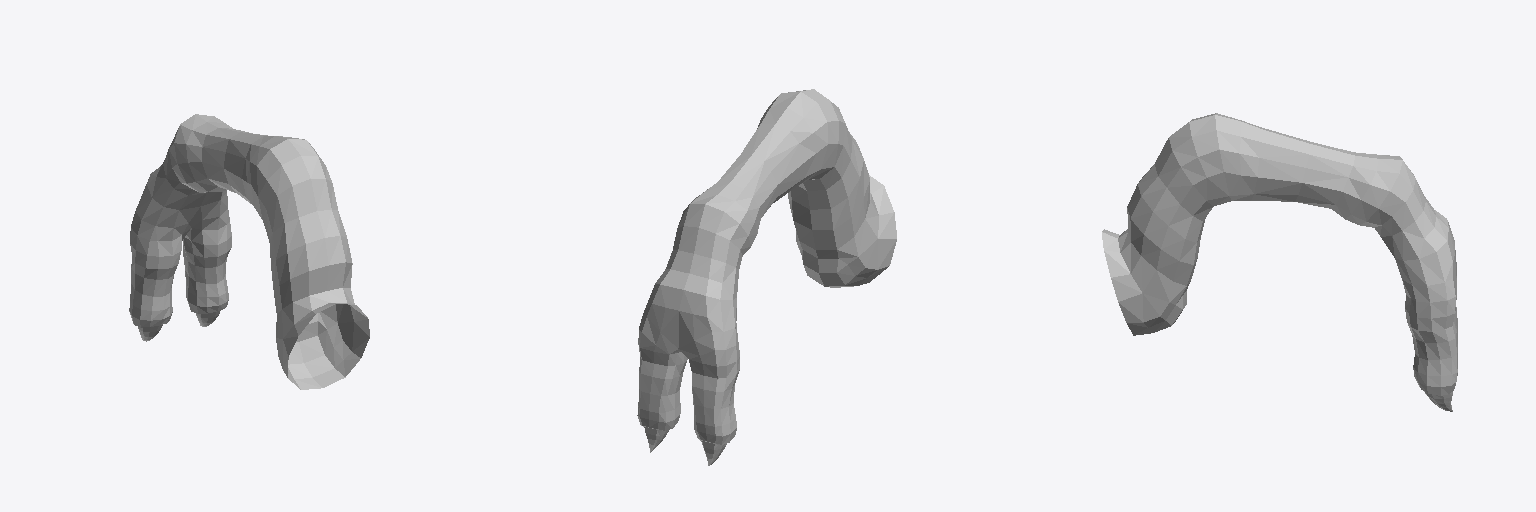
Rendered from wyvleg.obj.
The picture shows the model from 3 angles: view 1: azimuth 30°, elevation 25°; view 2: azimuth 150°, elevation 25°; view 3: azimuth 270°, elevation 25°; orthographic projection.
Visible parts, largest first — view 1: 9.001; view 2: 9.001, 11.001; view 3: 9.001.
Boxes of the visible parts, box(x1,y1,x2,y2) form: 9.001: box(129, 114, 369, 389); 9.001: box(637, 89, 896, 444); 11.001: box(644, 427, 726, 465); 9.001: box(1102, 113, 1457, 395).
Bounding box in the file's own units: 0.1976 × 0.5497 × 0.6305.